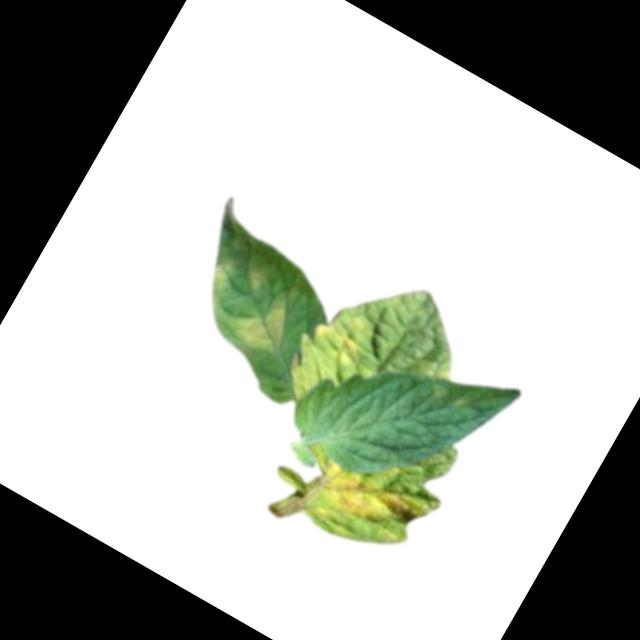Leaf_Mold: (273, 421, 445, 573), (227, 272, 307, 358), (302, 295, 379, 371)
